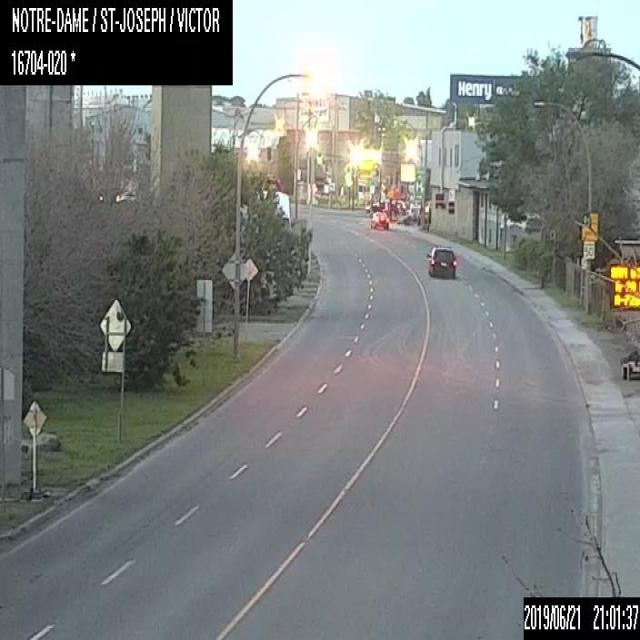construction: (606, 234, 639, 378)
vehicle: (426, 246, 456, 278), (369, 211, 388, 229)
